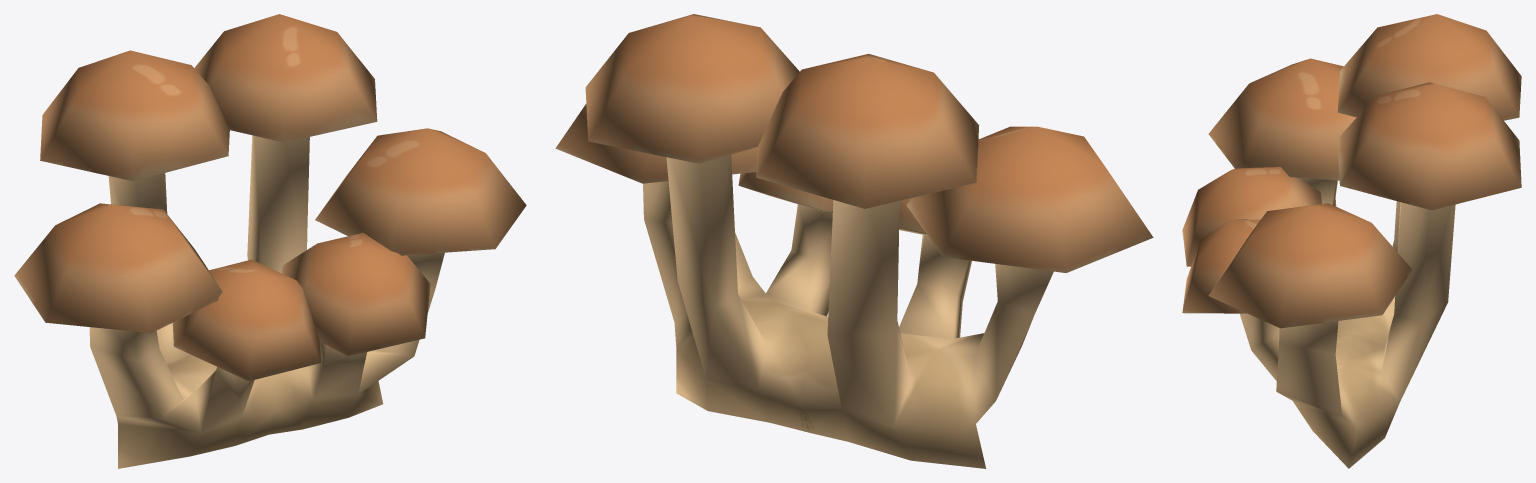
File: JamurMagicWing.fbx
3 renders of one model, left to right at view 1: azimuth 30°, elevation 25°; view 2: azimuth 150°, elevation 25°; view 3: azimuth 270°, elevation 25°, orthographic. The views are drawn at different scales.
Parts seen in each view (by area): view 1: namanya apa?.003; view 2: namanya apa?.003; view 3: namanya apa?.003.
Part boxes in pixels (x1,y1,x2,y2): namanya apa?.003: (14,14,526,468); namanya apa?.003: (555,14,1153,468); namanya apa?.003: (1182,14,1521,468).
Size of the model in its own units: 59.43 by 43.97 by 37.65.
